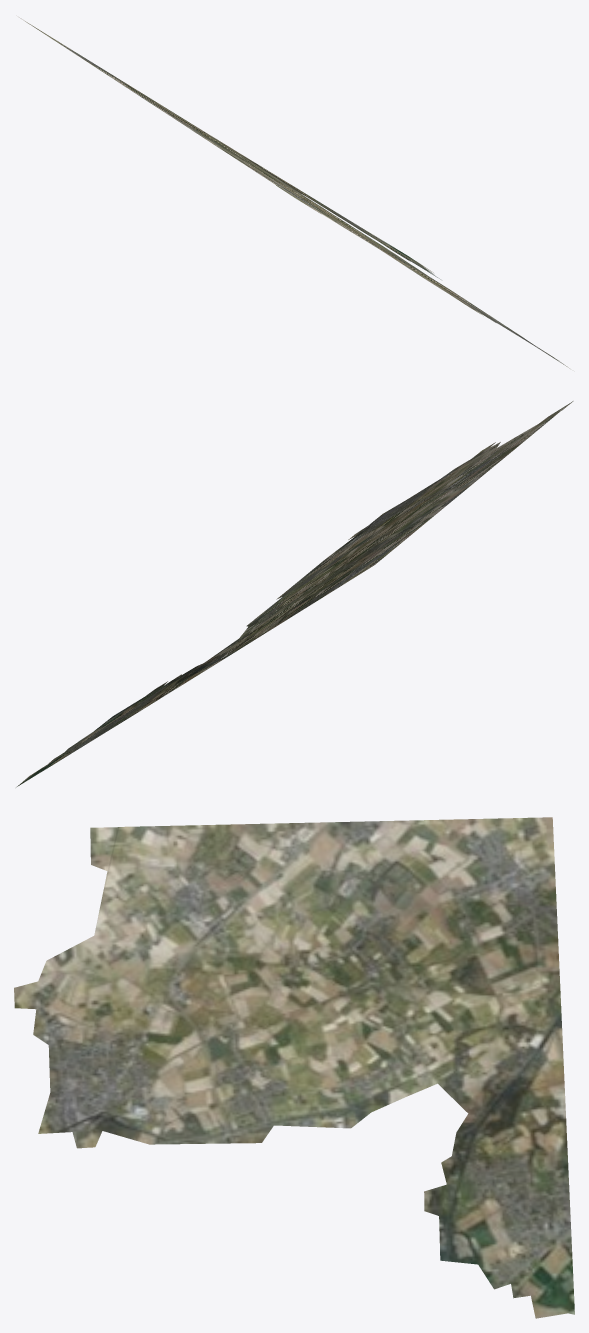
The model's file is lille_vpf.glb.
The picture shows the model from 3 angles, top to bottom: view 1: azimuth 30°, elevation 25°; view 2: azimuth 150°, elevation 25°; view 3: azimuth 270°, elevation 25°; orthographic projection. The views are drawn at different scales.
Bounding box in the file's own units: 6482 × 5312 × 8451.
1 material, 1 textured.
